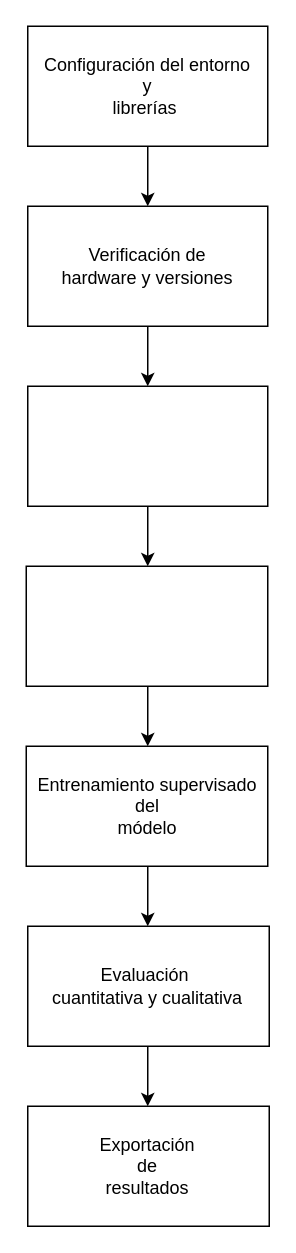
The diagram is 296 pixels wide and 1253 high, and some of its shapes have lost their labels. The centre of each missing label's shape, as x and y in pixels:
"Definición de módulos fuente del proyecto" goes at point 146,625.
"Ingesta de datos desde almacenamiento privado" goes at point 147,445.
